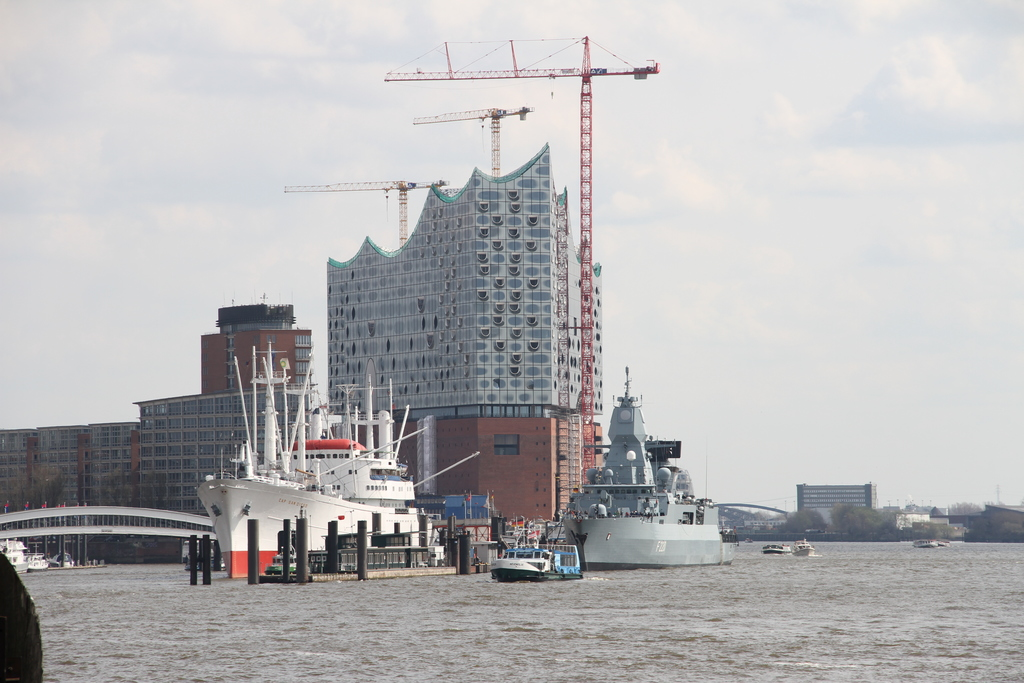boat: (194, 342, 442, 592), (554, 362, 746, 576), (472, 525, 591, 593), (788, 530, 824, 565), (757, 539, 789, 564)
